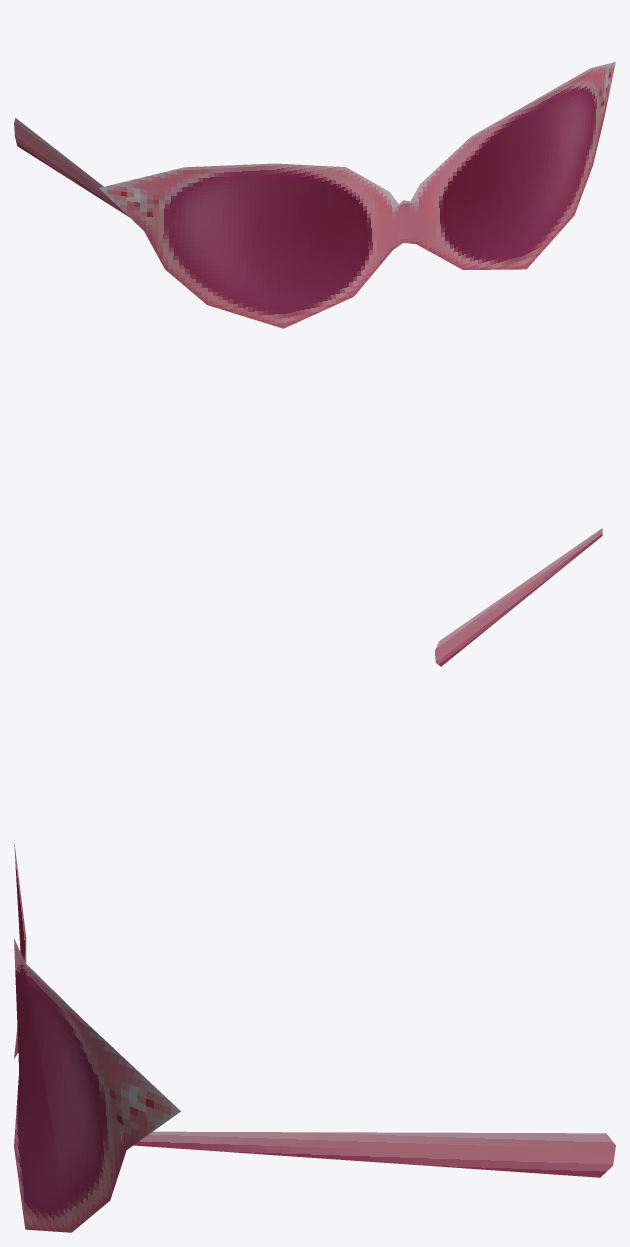
Rendered from tt_m_chr_avt_acc_msk_catEyeGlasses.glb.
The picture shows the model from 3 angles, top to bottom: view 1: azimuth 30°, elevation 25°; view 2: azimuth 150°, elevation 25°; view 3: azimuth 270°, elevation 25°; orthographic projection. The views are drawn at different scales.
Parts seen in each view (by area): view 1: catEyeGlasses; view 2: catEyeGlasses; view 3: catEyeGlasses.
Boxes of the visible parts, box(x1,y1,x2,y2) form: catEyeGlasses: box(14, 62, 615, 328); catEyeGlasses: box(435, 528, 602, 666); catEyeGlasses: box(14, 840, 615, 1232).
Bounding box in the file's own units: 4.35 × 1.35 × 2.68.
Materials: 1 (1 with a texture image).
